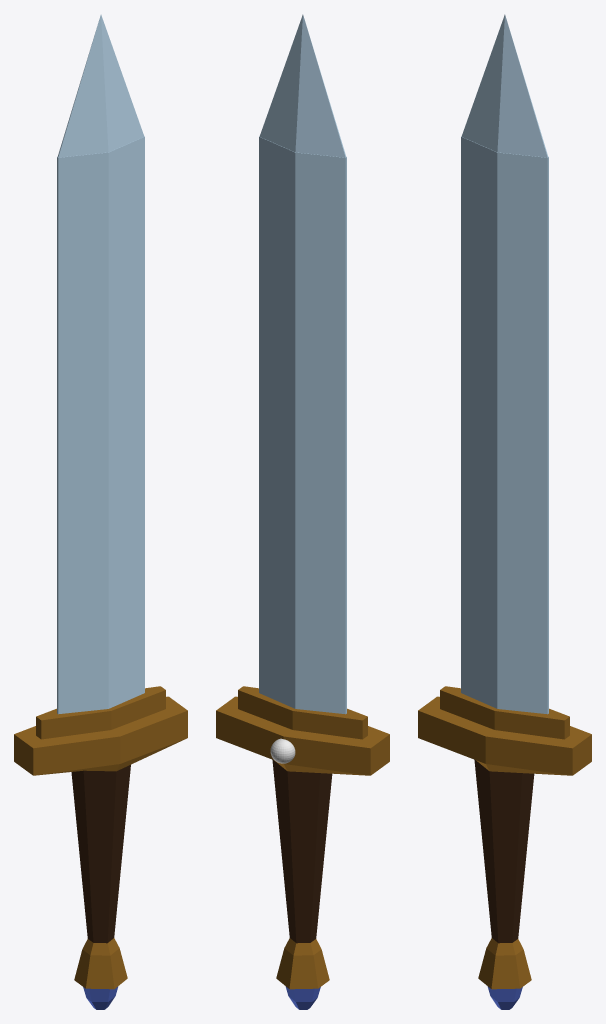
File: basic-sword.fbx
3 views of the same model, side by side, from view 1: azimuth 30°, elevation 25°; view 2: azimuth 150°, elevation 25°; view 3: azimuth 330°, elevation 25° (orthographic).
Visible parts, largest first — view 1: 0-sword; view 2: 0-sword, Sphere; view 3: 0-sword.
Part boxes in pixels (x1,y1,x2,y2): 0-sword: [14, 14, 187, 1009]; 0-sword: [216, 14, 389, 1009]; Sphere: [270, 738, 295, 763]; 0-sword: [418, 14, 591, 1009].
Size of the model in its own units: 464 by 2848 by 235.
